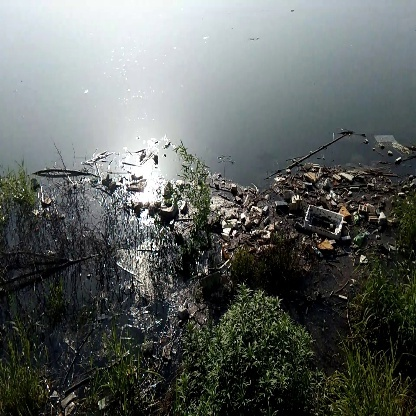branch: (267, 134, 347, 163), (31, 163, 96, 181)
plastic-garbage: (302, 202, 346, 240)
